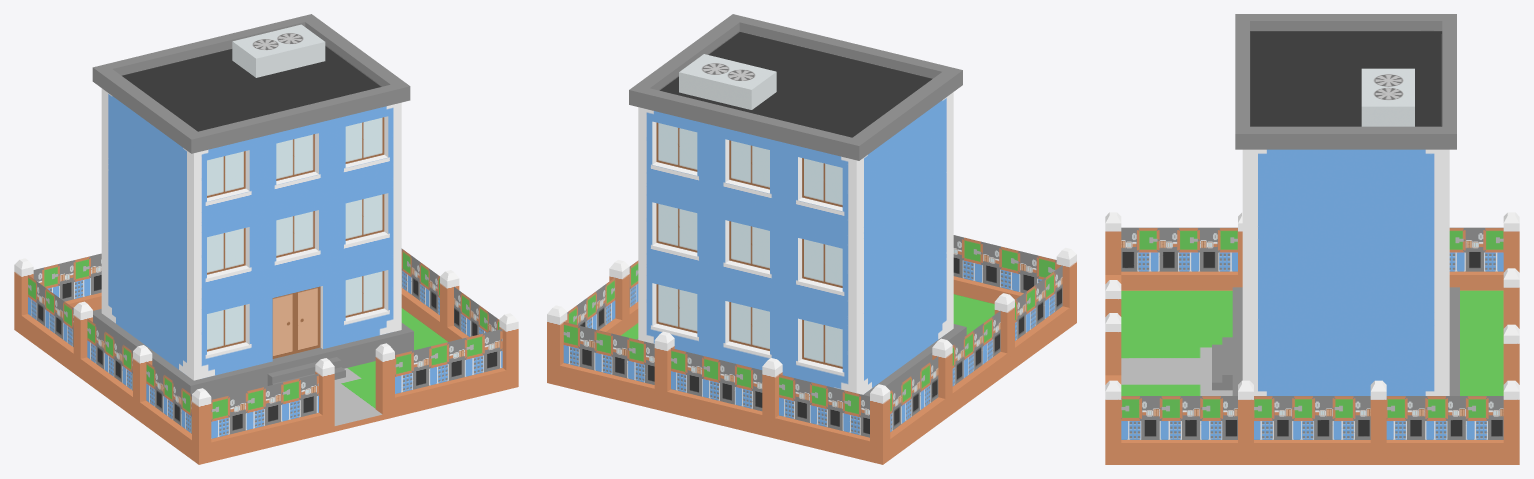
The model's file is Building4.glb.
The picture shows the model from 3 angles, left to right: view 1: azimuth 30°, elevation 25°; view 2: azimuth 150°, elevation 25°; view 3: azimuth 270°, elevation 25°; orthographic projection. The views are drawn at different scales.
Parts seen in each view (by area): view 1: Box053, Plane001, Object001; view 2: Box053, Plane001, Object001; view 3: Box053, Plane001, Object001.
Part boxes in pixels (x1=…): Box053: x1=14, y1=14, x2=518, y2=464; Plane001: x1=28, y1=248, x2=502, y2=438; Object001: x1=14, y1=258, x2=518, y2=445; Box053: x1=547, y1=14, x2=1076, y2=464; Plane001: x1=563, y1=235, x2=1062, y2=437; Object001: x1=547, y1=247, x2=1076, y2=444; Box053: x1=1105, y1=14, x2=1519, y2=464; Plane001: x1=1121, y1=227, x2=1503, y2=439; Object001: x1=1105, y1=212, x2=1519, y2=442.
Bounding box in the file's own units: 6 × 5.04 × 6.
Materials: 1 (1 with a texture image).
